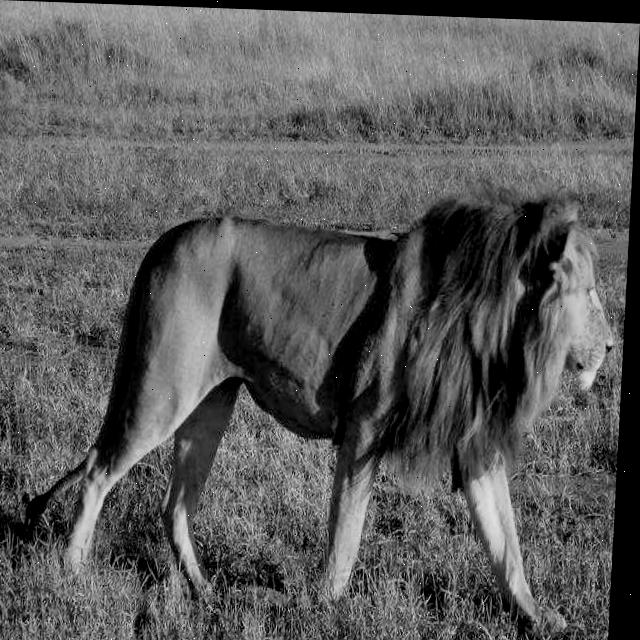Lion: (286, 129, 612, 590)
